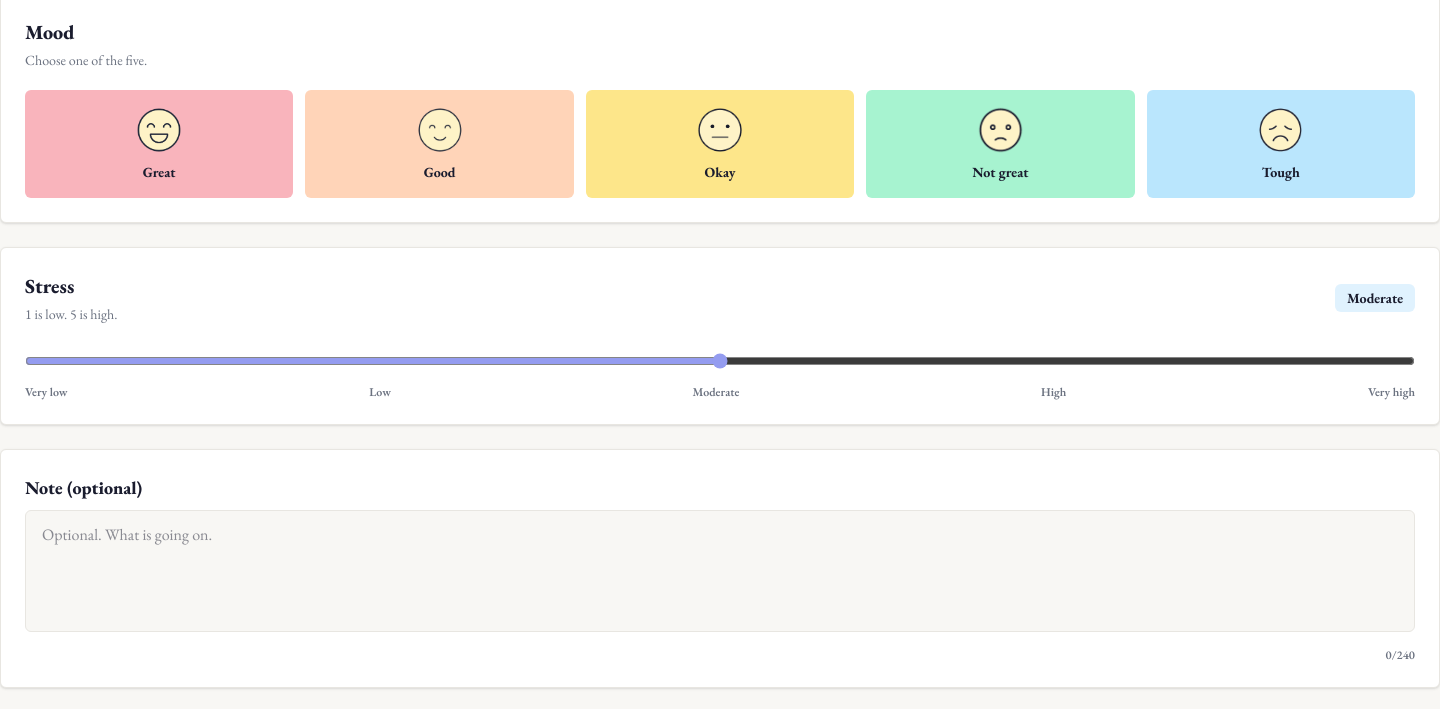
Test: MoodStress › requires a signed-in user
Click the button "Okay".
click(720, 144)  # box [586,90,854,198]
(page scrolled)
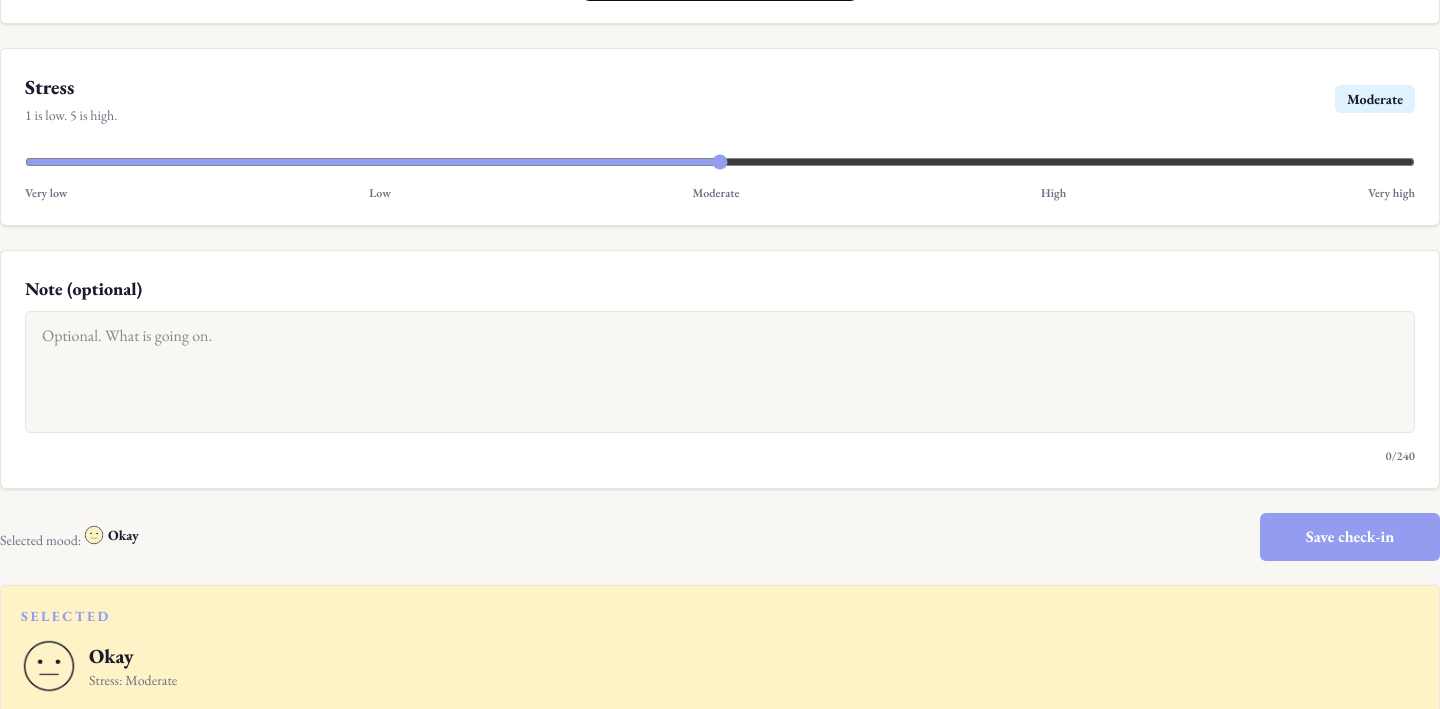
Click the button "Save check-in".
click(1350, 537)  # box [1260,513,1439,561]
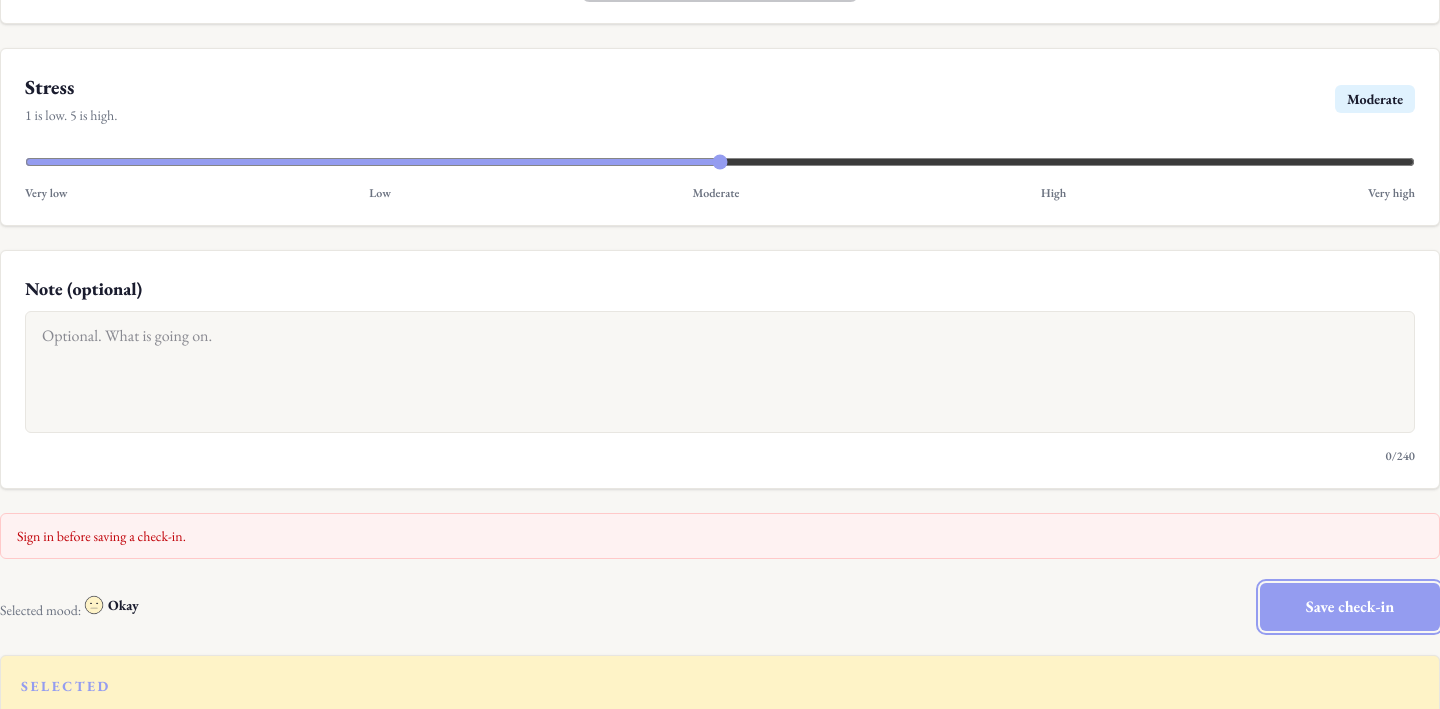
Expected: the message reads "Sign in before saving a check-in.", [17,527,186,545]
